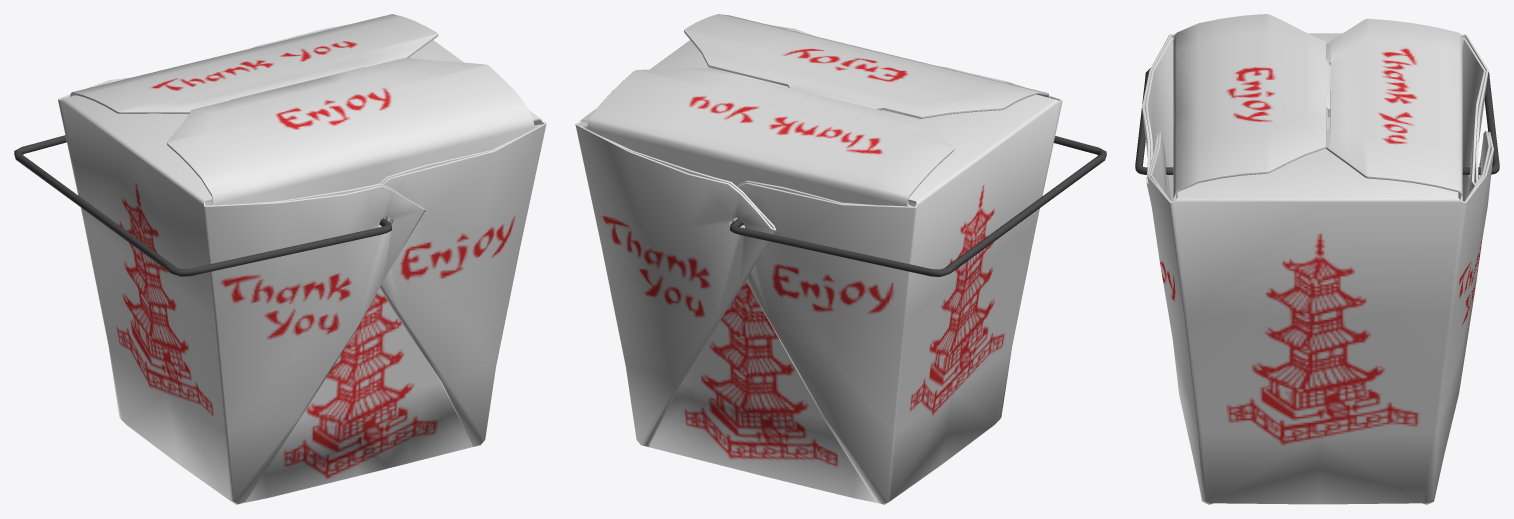
File: takeout.gltf
The picture shows the model from 3 angles, left to right: view 1: azimuth 30°, elevation 25°; view 2: azimuth 150°, elevation 25°; view 3: azimuth 270°, elevation 25°; orthographic projection.
Visible parts, largest first — view 1: pack, handle; view 2: pack, handle; view 3: pack, handle.
Part boxes in pixels (bbox=[...]): pack: bbox=[58, 14, 546, 504]; handle: bbox=[14, 135, 391, 276]; pack: bbox=[575, 14, 1062, 504]; handle: bbox=[730, 136, 1106, 276]; pack: bbox=[1142, 14, 1493, 504]; handle: bbox=[1135, 68, 1499, 174].
Size of the model in its own units: 10.89 by 9.6 by 8.96.
Materials: 1 (1 with a texture image).
